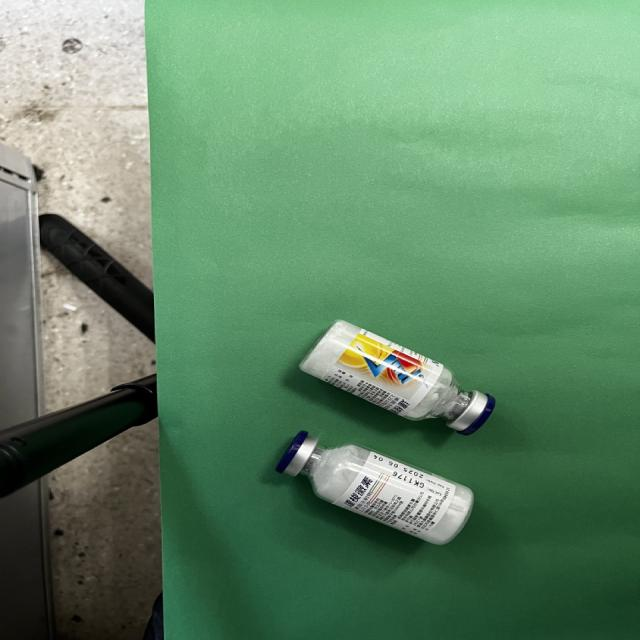Vials: (276, 431, 473, 545), (299, 320, 494, 435)
